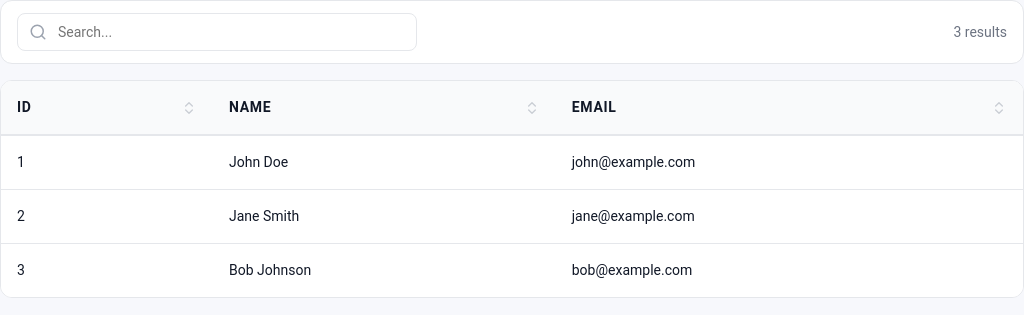
Table Component › Filtering › clears filter when clear button is clicked
Step 1. Type "Jane" into the field with placeholder "Search..." → (217, 32), box [17, 13, 417, 51]
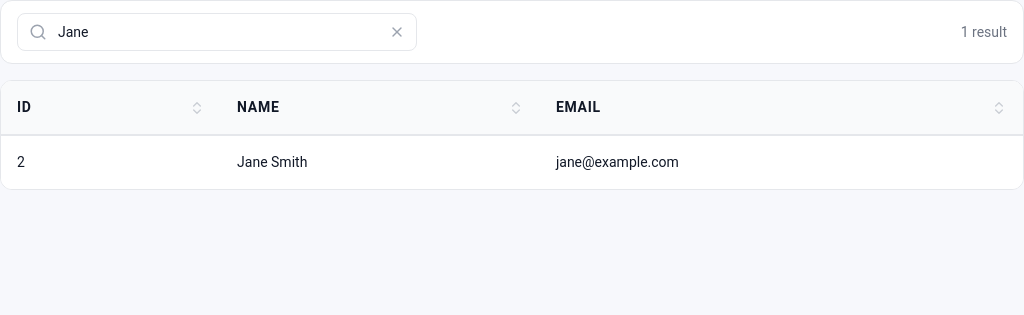
Expected: the text "John Doe" is gone
Step 2. Click the button named "Clear search" → (397, 32), box [385, 20, 409, 44]
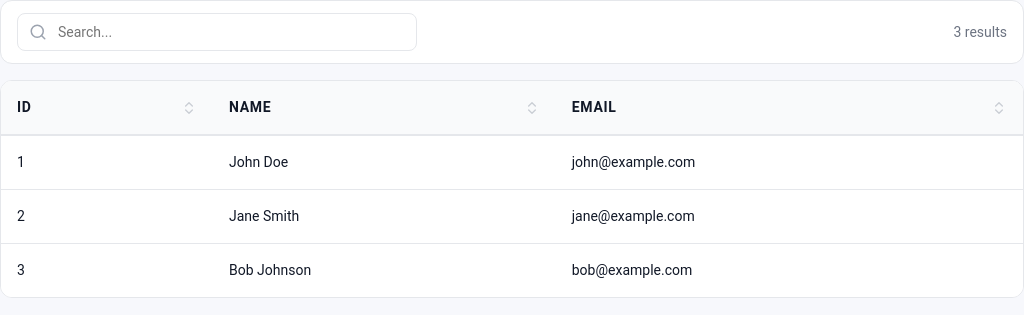
Expected: the text "John Doe" is shown, [213, 135, 556, 190]
Expected: the field with placeholder "Search..." is empty, [17, 13, 417, 51]
